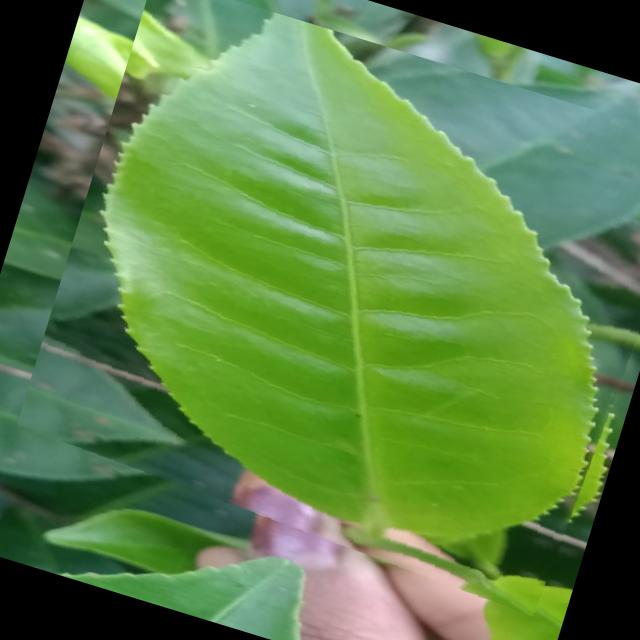Category B(2-4 days): (7, 0, 640, 625)
